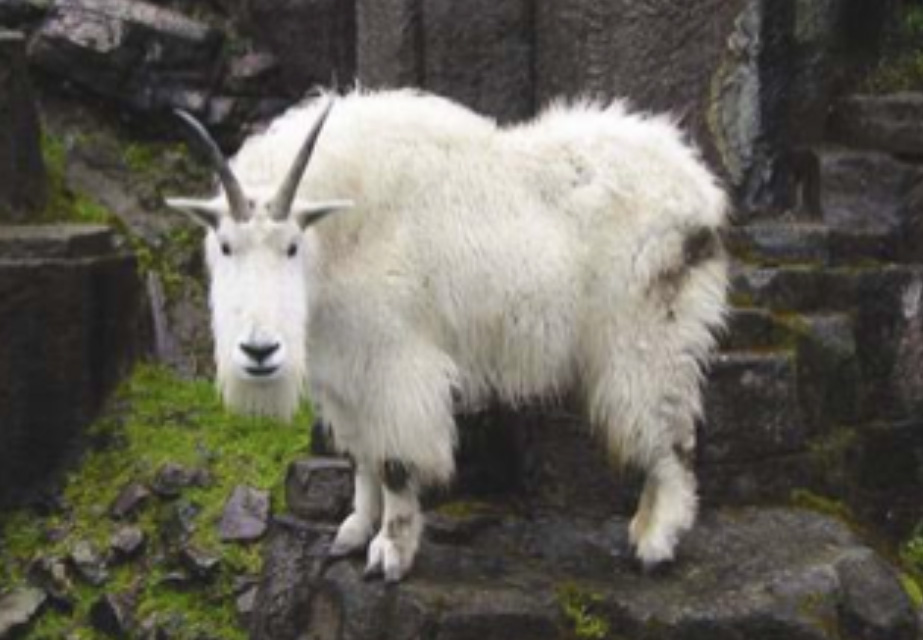goat: (161, 81, 733, 584)
